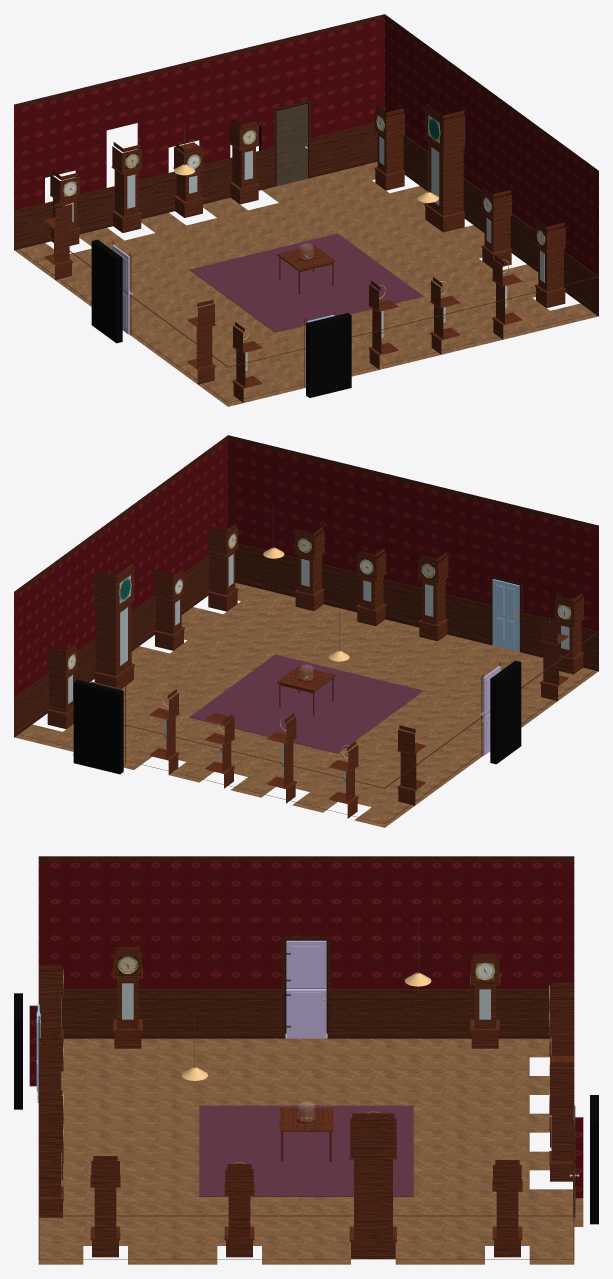
The model's file is rdwe_wrong_clock.glb.
The picture shows the model from 3 angles, top to bottom: view 1: azimuth 30°, elevation 25°; view 2: azimuth 150°, elevation 25°; view 3: azimuth 270°, elevation 25°; orthographic projection. The views are drawn at different scales.
Parts seen in each view (by area): view 1: Paper_Oxblood, Floor_Parquet, Clock_Wood, Panel_Dark, Rug_Red, Trim_Dark, Void_Black, DoorLeaf_hands, Glass_Door, Clock_Faces, DoorLeaf_gallery, Brass; view 2: Paper_Oxblood, Floor_Parquet, Clock_Wood, Panel_Dark, Rug_Red, Void_Black, Trim_Dark, Glass_Door, DoorLeaf_waiting, Clock_Faces, DoorLeaf_gallery, Brass; view 3: Floor_Parquet, Paper_Oxblood, Clock_Wood, Panel_Dark, Rug_Red, Trim_Dark, DoorLeaf_gallery, Void_Black, Glass_Door, Clock_Faces, Shade_Amber.
Part boxes in pixels (bbox=[...]): Paper_Oxblood: bbox=[14, 14, 598, 315]; Floor_Parquet: bbox=[14, 162, 598, 406]; Clock_Wood: bbox=[44, 103, 565, 402]; Panel_Dark: bbox=[14, 125, 598, 367]; Rug_Red: bbox=[189, 233, 423, 332]; Trim_Dark: bbox=[14, 14, 598, 402]; Void_Black: bbox=[91, 103, 351, 397]; DoorLeaf_hands: bbox=[276, 104, 307, 186]; Glass_Door: bbox=[65, 136, 544, 370]; Clock_Faces: bbox=[64, 114, 544, 256]; DoorLeaf_gallery: bbox=[112, 245, 132, 334]; Brass: bbox=[62, 116, 545, 340]; Paper_Oxblood: bbox=[14, 435, 598, 736]; Floor_Parquet: bbox=[14, 583, 598, 827]; Clock_Wood: bbox=[47, 523, 584, 818]; Panel_Dark: bbox=[14, 546, 598, 788]; Rug_Red: bbox=[189, 654, 423, 753]; Void_Black: bbox=[73, 578, 521, 774]; Trim_Dark: bbox=[14, 435, 598, 823]; Glass_Door: bbox=[68, 554, 569, 786]; DoorLeaf_waiting: bbox=[492, 579, 519, 651]; Clock_Faces: bbox=[68, 532, 570, 677]; DoorLeaf_gallery: bbox=[480, 666, 500, 755]; Brass: bbox=[67, 533, 571, 758]; Floor_Parquet: bbox=[38, 1038, 583, 1264]; Paper_Oxblood: bbox=[29, 856, 583, 1198]; Clock_Wood: bbox=[38, 947, 574, 1258]; Panel_Dark: bbox=[38, 991, 574, 1216]; Rug_Red: bbox=[199, 1105, 413, 1196]; Trim_Dark: bbox=[38, 857, 574, 1259]; DoorLeaf_gallery: bbox=[286, 940, 326, 1038]; Void_Black: bbox=[14, 940, 598, 1224]; Glass_Door: bbox=[61, 983, 551, 1185]; Clock_Faces: bbox=[119, 957, 493, 1117]; Shade_Amber: bbox=[181, 972, 431, 1080].
Bounding box in the file's own units: 12.55 × 4.55 × 13.1.
Materials: 23 (10 with a texture image).
